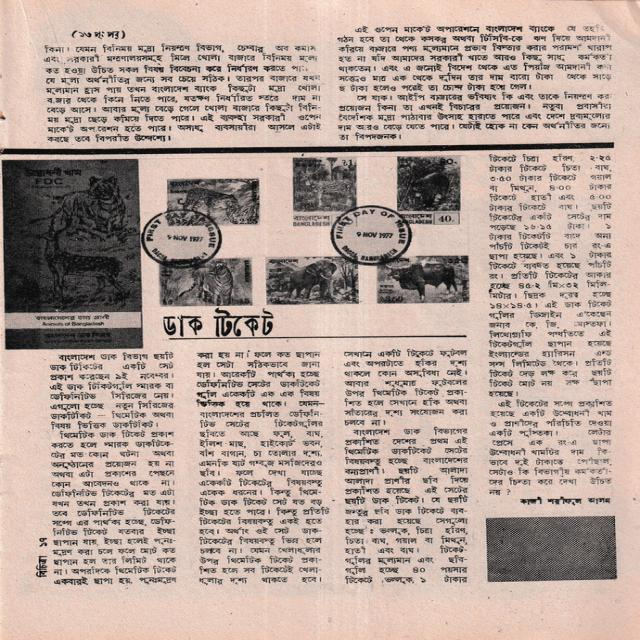image: (3, 160, 143, 349), (264, 256, 361, 306), (331, 205, 411, 265), (375, 254, 471, 304), (141, 210, 222, 266), (292, 158, 358, 226), (395, 156, 460, 224), (167, 179, 259, 227), (159, 259, 252, 306)
page number: (36, 536, 49, 548)
paragraph: (194, 350, 334, 586), (486, 151, 613, 399), (42, 41, 322, 144), (342, 426, 470, 585), (51, 429, 179, 586), (335, 22, 616, 92), (336, 91, 614, 141), (486, 397, 614, 497), (341, 347, 471, 429), (48, 350, 178, 431)
text: (517, 494, 614, 508), (69, 27, 127, 40), (35, 555, 49, 579)
title: (161, 308, 277, 338)
